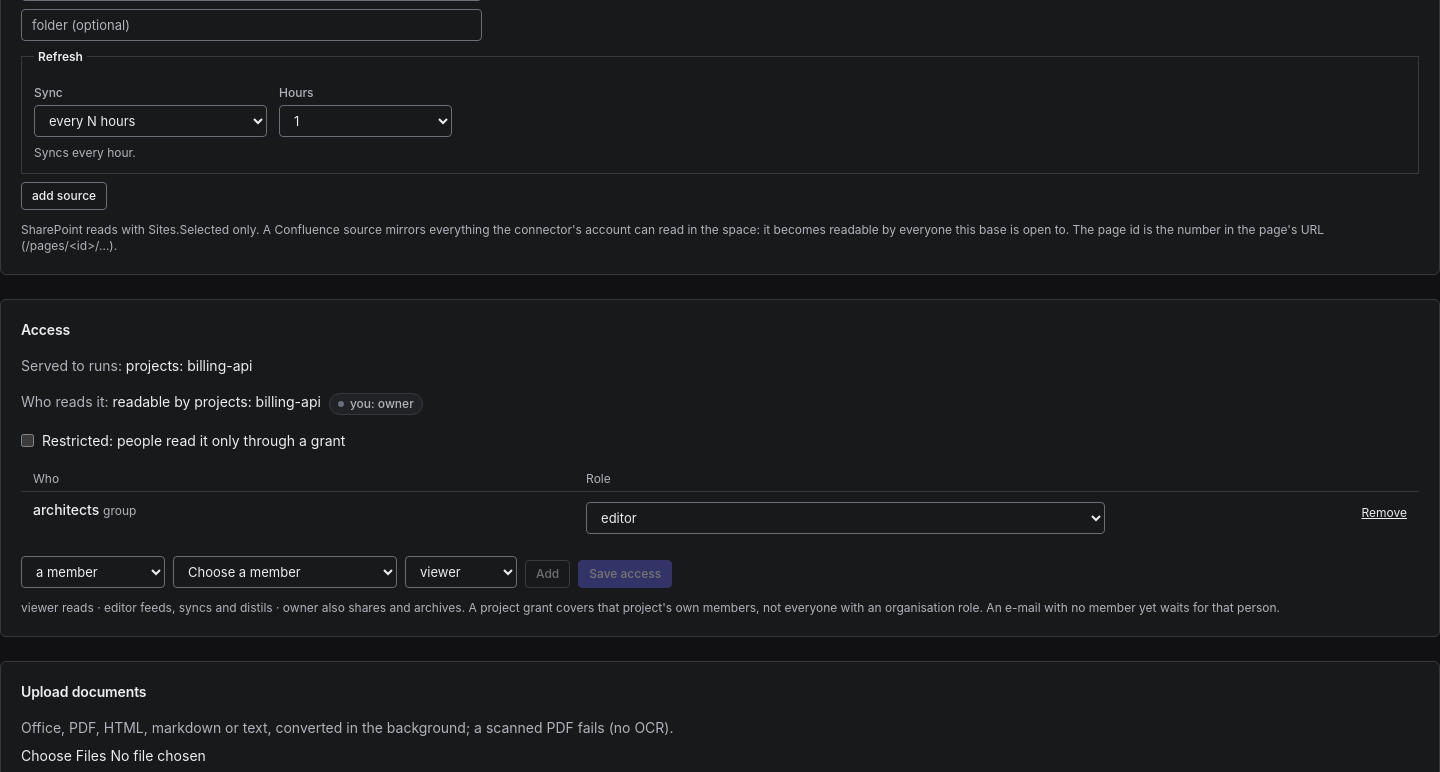
Test: the access card (S42-11) › lists each member once, adds an e-mail lower-cased and a project by name, and removes a row
This screenshot has width=1440, height=772.
(page scrolled)
expect the table with test id "knowledge-grants" is shown: met, box 21,466 -> 1419,544
Select "a member" in the dropdown named "Grant to". click: (93, 572)
box: 21,556 -> 165,588
expect the dropdown named "Member" is shown: met, box 173,556 -> 397,588
Select "an e-mail" in the dropdown named "Grant to". click: (93, 572)
box: 21,556 -> 165,588
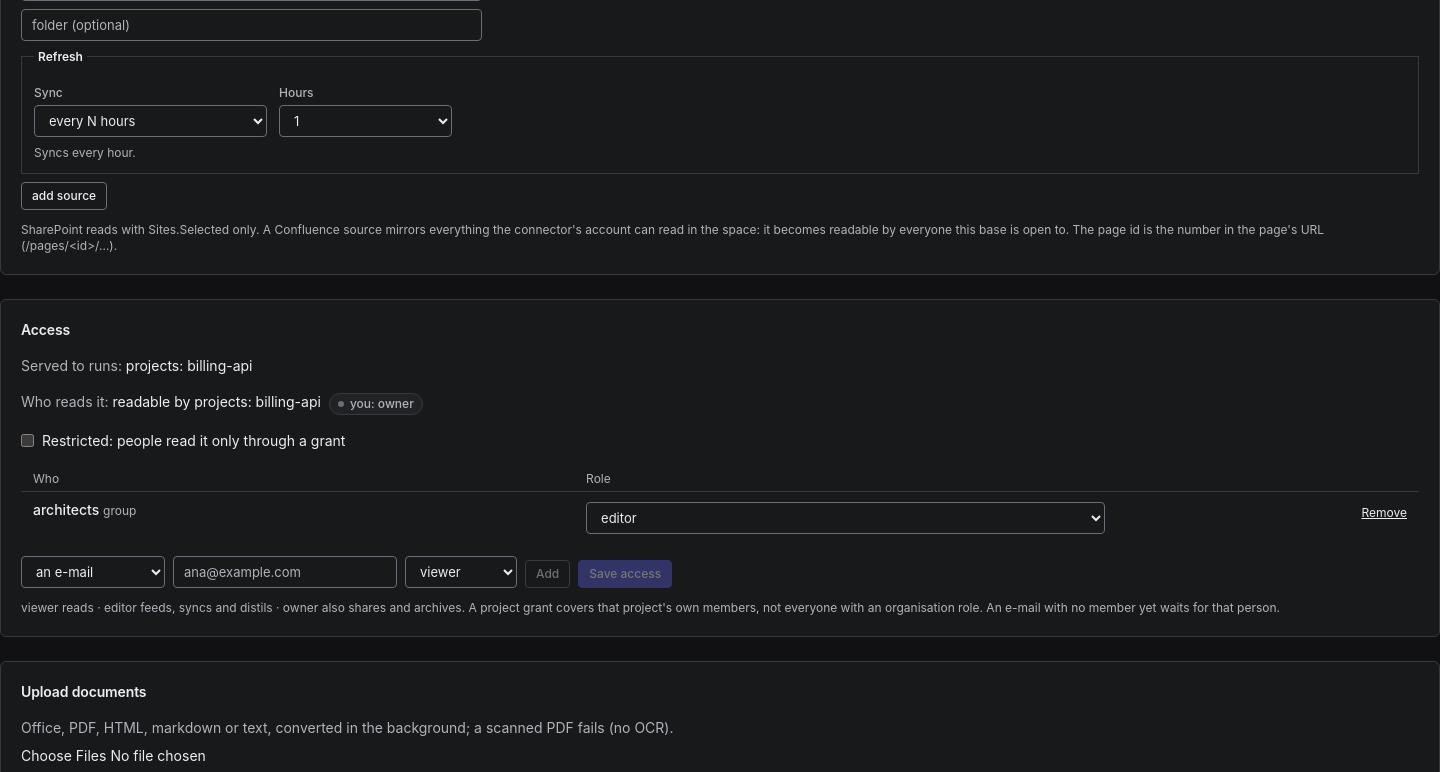
Type "Later@Varga.dev" into the field named "E-mail". click: (285, 572)
box: 173,556 -> 397,588
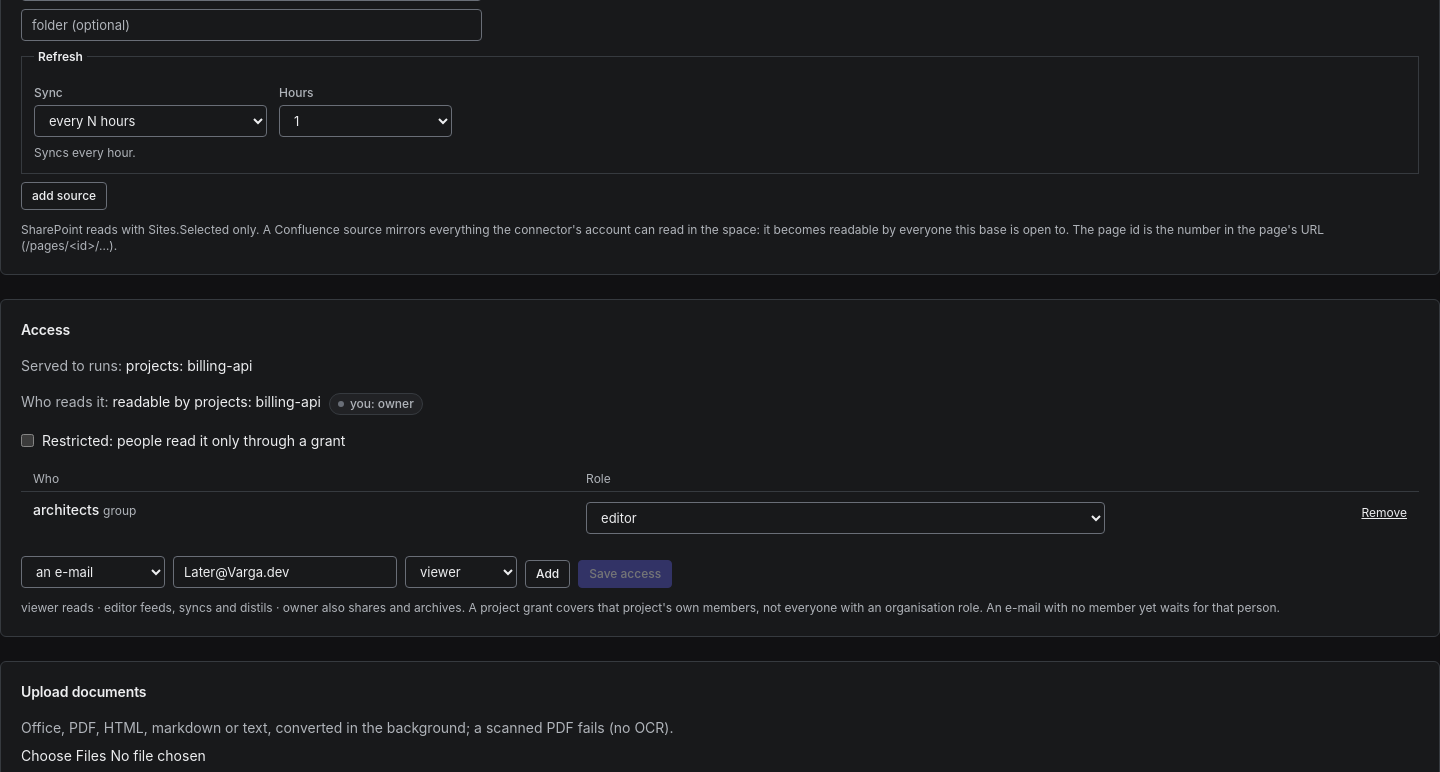
Click the button "Add". click: (548, 574)
box: 525,560 -> 570,588
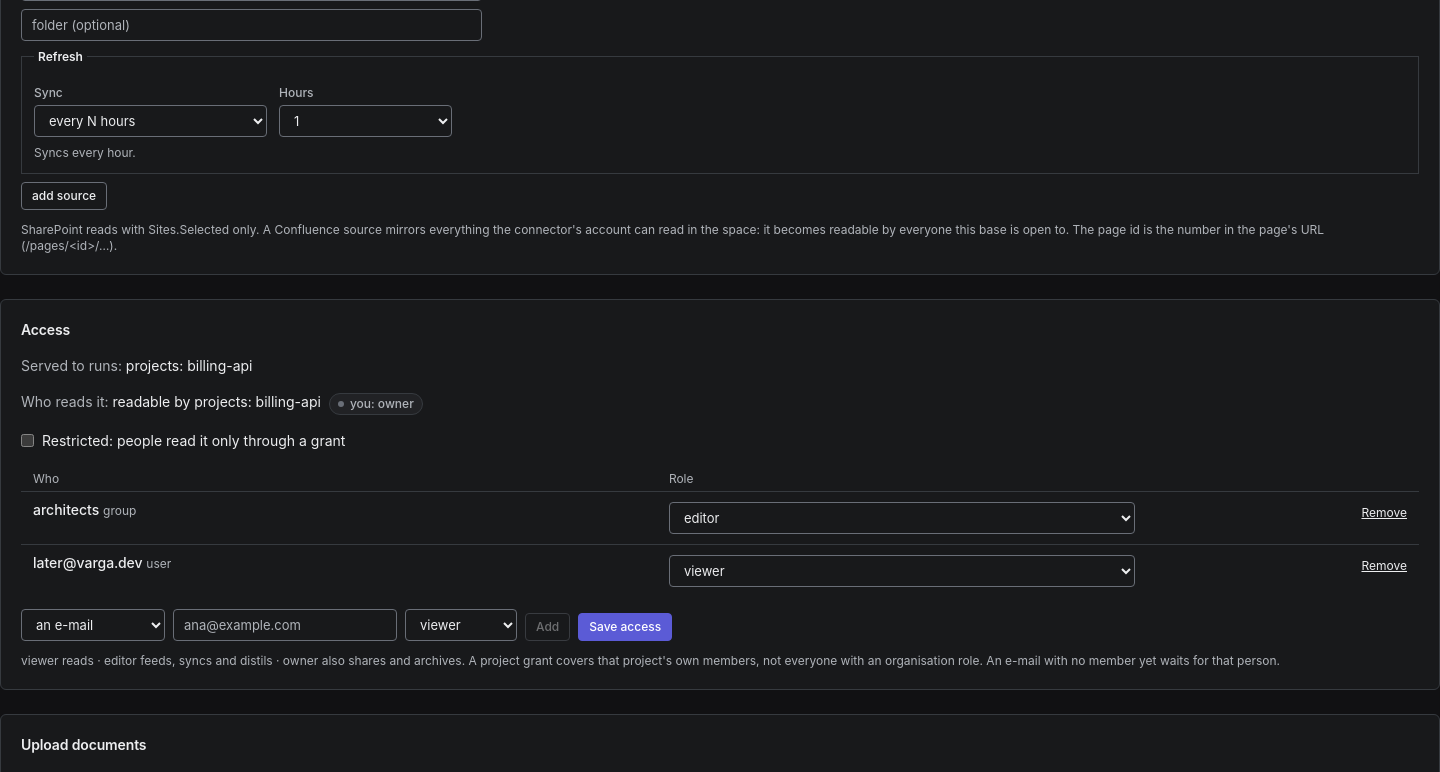
expect the table with test id "knowledge-grants" shows "later@varga.dev": met, box 33,554 -> 143,570
Select "a project" in the dropdown named "Grant to". click: (93, 624)
box: 21,608 -> 165,640
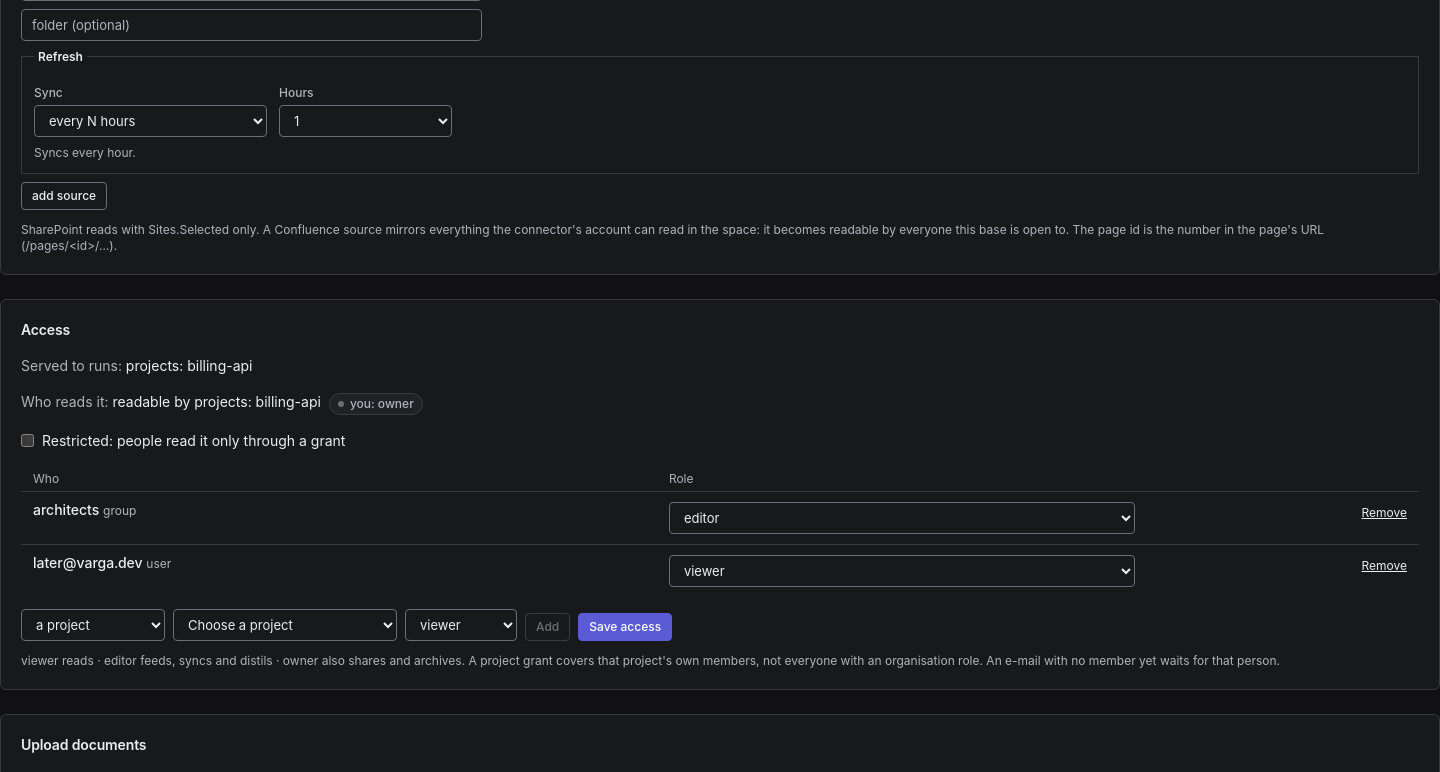
Click the button with aria-label "Remove architects". click: (1384, 512)
box: 1362,504 -> 1407,520
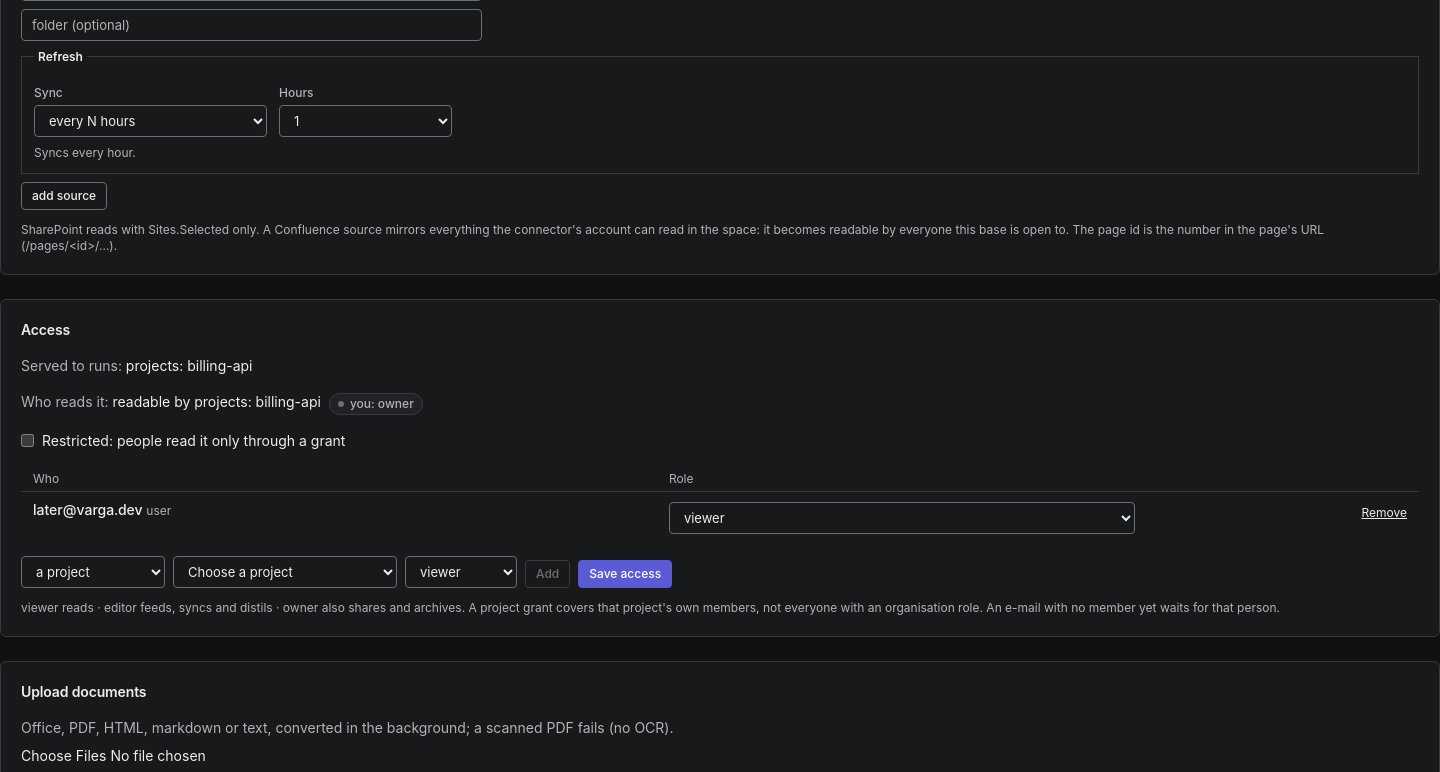
expect the table with test id "knowledge-grants" no longer shows "architects": met, box 21,466 -> 1419,544
